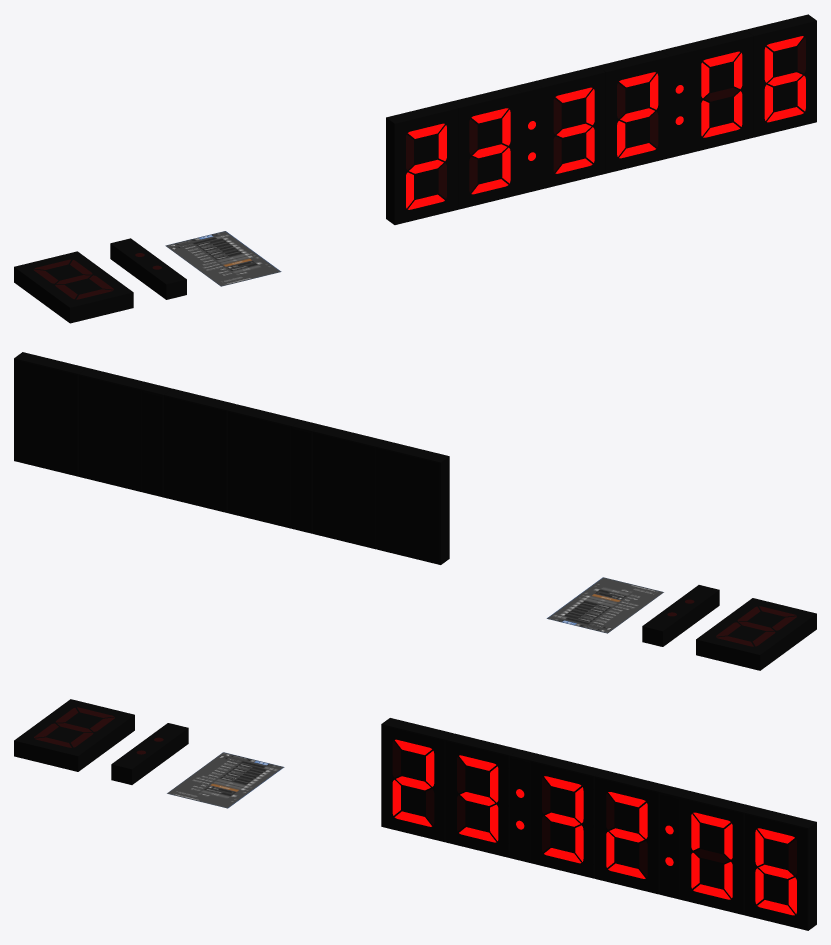
Rendered from digital_clock.glb.
The picture shows the model from 3 angles, top to bottom: view 1: azimuth 30°, elevation 25°; view 2: azimuth 150°, elevation 25°; view 3: azimuth 330°, elevation 25°; orthographic projection.
Parts seen in each view (by area): view 1: Digital.Clock_3, Digit_1, Digital.Clock.Geometry.Node_4, Dots_0; view 2: Digital.Clock_3, Digit_1, Digital.Clock.Geometry.Node_4, Dots_0; view 3: Digital.Clock_3, Digit_1, Digital.Clock.Geometry.Node_4, Dots_0.
Part boxes in pixels (x1,y1,x2,y2): Digital.Clock_3: [386, 14, 816, 224]; Digit_1: [14, 251, 133, 323]; Digital.Clock.Geometry.Node_4: [165, 231, 281, 286]; Dots_0: [110, 238, 186, 299]; Digital.Clock_3: [14, 352, 449, 564]; Digit_1: [696, 598, 816, 670]; Digital.Clock.Geometry.Node_4: [546, 577, 663, 633]; Dots_0: [642, 585, 719, 646]; Digital.Clock_3: [381, 718, 816, 930]; Digit_1: [14, 699, 134, 771]; Digital.Clock.Geometry.Node_4: [167, 752, 284, 808]; Dots_0: [111, 723, 188, 784].
Size of the model in its own units: 20.5 by 2.6 by 2.6.
Materials: 4 (1 with a texture image).
